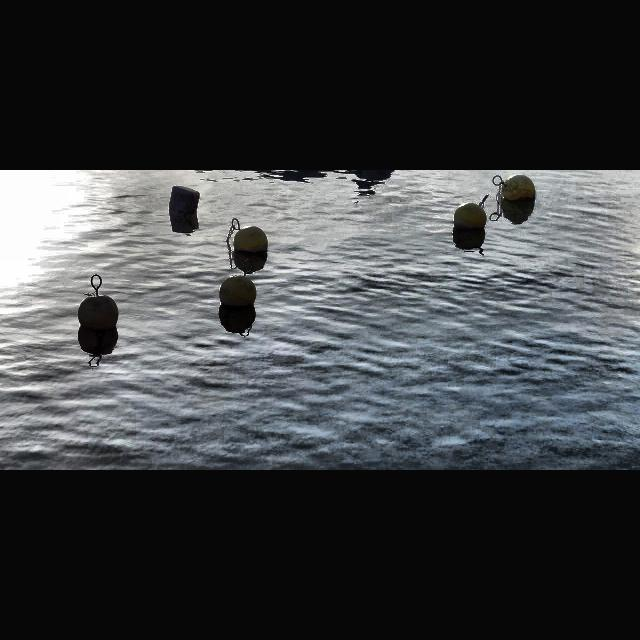buoy: (75, 274, 118, 332), (226, 212, 272, 258), (220, 262, 260, 312), (493, 171, 537, 207), (452, 196, 492, 234)
